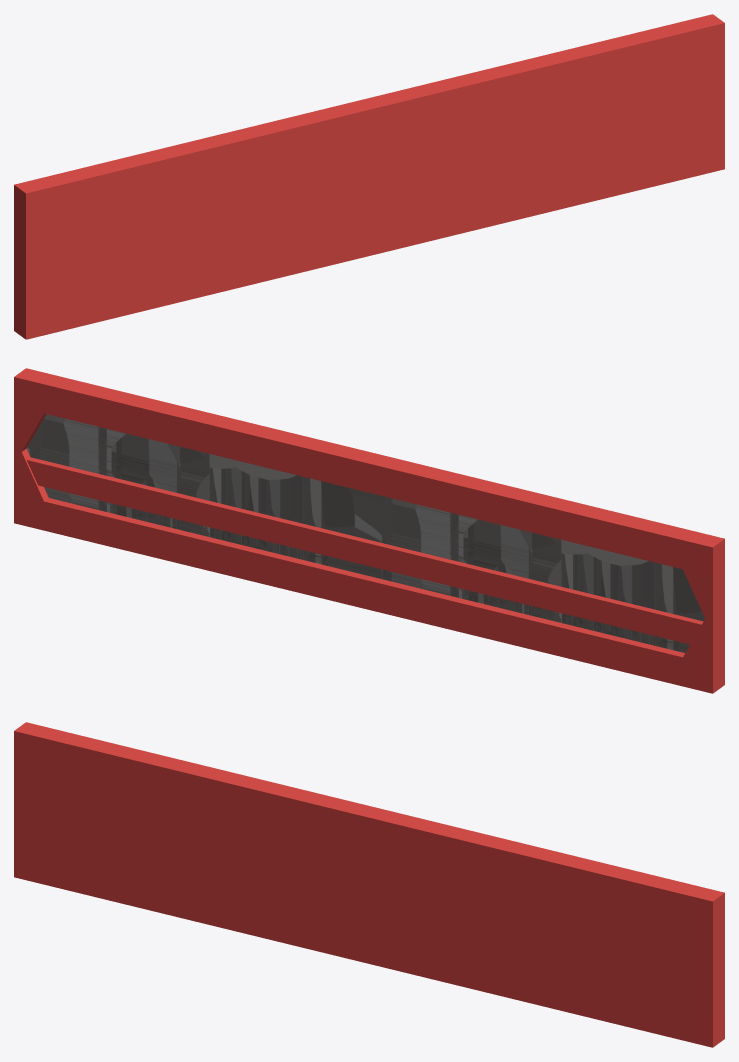
Rendered from Dimond_longest.fbx.
The picture shows the model from 3 angles, top to bottom: view 1: azimuth 30°, elevation 25°; view 2: azimuth 150°, elevation 25°; view 3: azimuth 330°, elevation 25°; orthographic projection.
Visible parts, largest first — view 1: Cylinder.153; view 2: Cylinder.153; view 3: Cylinder.153.
Part boxes in pixels (x1=…): Cylinder.153: x1=14, y1=14, x2=724, y2=339; Cylinder.153: x1=14, y1=368, x2=724, y2=693; Cylinder.153: x1=14, y1=722, x2=724, y2=1047.
Size of the model in its own units: 5000 by 1000 by 150.
